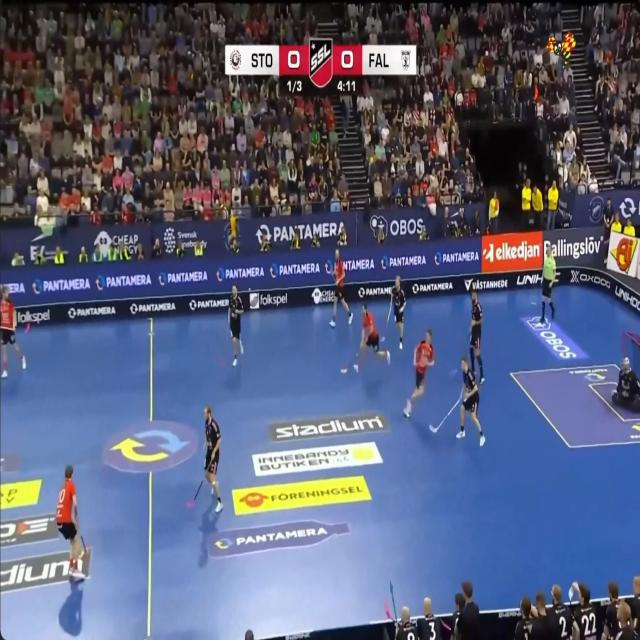player: (56, 465, 84, 579), (403, 328, 434, 417), (456, 356, 485, 446), (353, 304, 390, 371), (0, 287, 25, 377), (204, 406, 222, 512), (330, 249, 353, 327), (612, 358, 640, 412), (572, 583, 598, 639), (469, 290, 484, 383), (539, 245, 556, 323), (228, 284, 244, 366), (551, 585, 572, 639), (391, 276, 406, 350), (417, 597, 441, 639), (396, 607, 418, 639)
stick: (429, 394, 461, 432), (340, 350, 360, 373), (390, 580, 398, 624), (193, 480, 203, 502), (386, 295, 392, 325), (384, 601, 392, 618), (441, 619, 451, 631), (80, 534, 86, 553), (382, 629, 390, 639), (24, 323, 30, 333)
